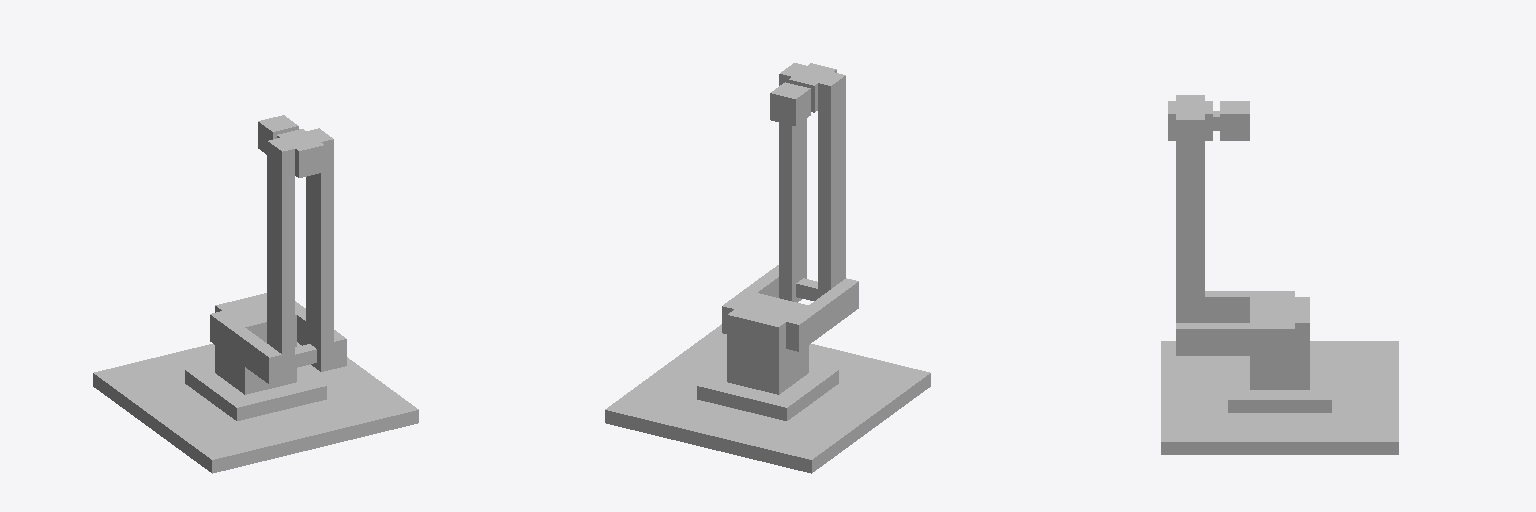
File: assembly_io_unit_export.obj
3 renders of one model, left to right at view 1: azimuth 30°, elevation 25°; view 2: azimuth 150°, elevation 25°; view 3: azimuth 270°, elevation 25°, orthographic.
Parts seen in each view (by area): view 1: Base, ArmMiddle2, ArmMiddle1, BaseTurn, BaseTurn2, ArmBase1, ClawBase, ArmBase2; view 2: Base, BaseTurn2, ArmMiddle2, ArmMiddle1, BaseTurn, ArmBase1, ArmBase2, ClawBase, Claw1; view 3: Base, ArmMiddle1, BaseTurn2, ArmBase2, BaseTurn, ArmBase1, ClawBase, ClawTurn.
Part boxes in pixels (x1,y1,x2,y2): Base: (93, 342, 418, 473); ArmMiddle2: (267, 138, 294, 381); ArmMiddle1: (306, 128, 333, 371); BaseTurn: (185, 362, 326, 420); BaseTurn2: (215, 293, 296, 394); ArmBase1: (210, 311, 281, 384); ClawBase: (277, 129, 324, 177); ArmBase2: (295, 301, 346, 368); Base: (605, 324, 930, 473); BaseTurn2: (727, 293, 808, 394); ArmMiddle2: (818, 72, 845, 297); ArmMiddle1: (779, 63, 806, 302); BaseTurn: (697, 362, 838, 420); ArmBase1: (786, 278, 858, 351); ArmBase2: (722, 265, 778, 333); ClawBase: (789, 63, 836, 112); Claw1: (783, 91, 802, 125); Base: (1161, 341, 1398, 454); ArmMiddle1: (1176, 114, 1204, 322); BaseTurn2: (1250, 297, 1309, 389); ArmBase2: (1176, 323, 1294, 355); BaseTurn: (1228, 356, 1331, 412); ArmBase1: (1205, 291, 1294, 322); ClawBase: (1168, 101, 1212, 140); ClawTurn: (1220, 101, 1234, 140).
Size of the model in its own units: 1 by 1.38 by 1.